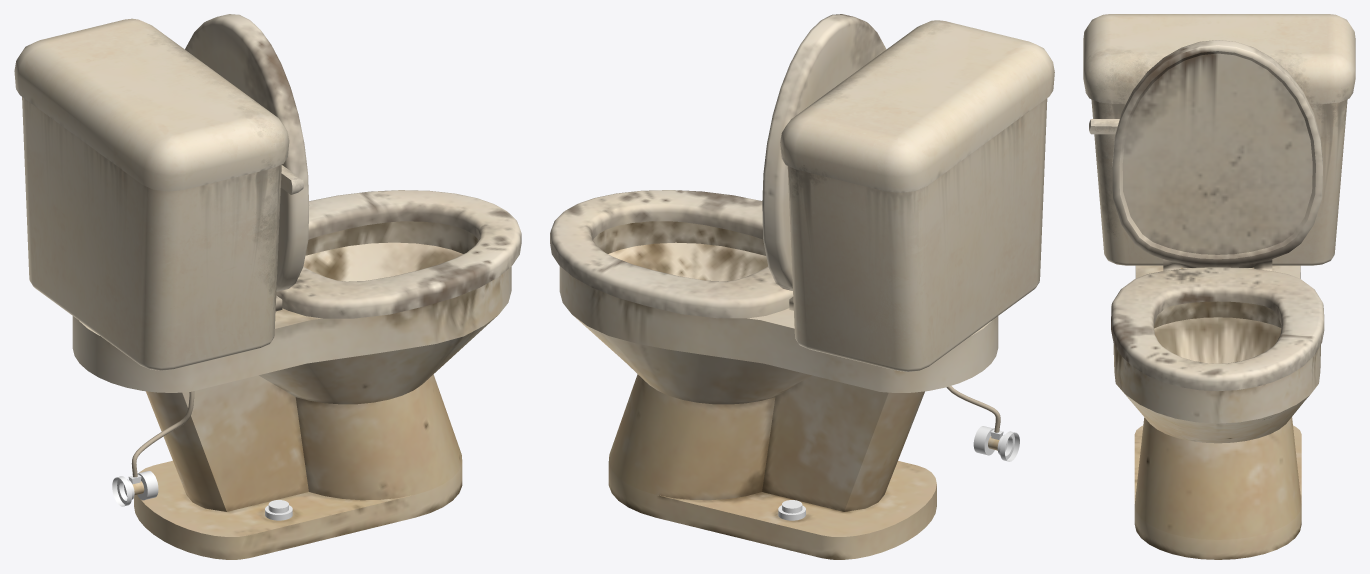
File: Dirty Toilet.glb
The picture shows the model from 3 angles, left to right: view 1: azimuth 30°, elevation 25°; view 2: azimuth 150°, elevation 25°; view 3: azimuth 270°, elevation 25°; orthographic projection. The views are drawn at different scales.
Visible parts, largest first — view 1: tOILET BOWL.001, Box.002, Circle.007, Circle.008, Circle.011; view 2: tOILET BOWL.001, Box.002, Circle.007, Circle.008, Circle.011; view 3: Circle.008, tOILET BOWL.001, Box.002, Circle.007, Circle.001.
Part boxes in pixels (x1=…): tOILET BOWL.001: x1=72, y1=221, x2=511, y2=559; Box.002: x1=14, y1=18, x2=289, y2=370; Circle.007: x1=276, y1=190, x2=521, y2=318; Circle.008: x1=185, y1=14, x2=309, y2=311; Circle.011: x1=112, y1=471, x2=158, y2=506; tOILET BOWL.001: x1=559, y1=221, x2=998, y2=559; Box.002: x1=780, y1=20, x2=1054, y2=371; Circle.007: x1=550, y1=190, x2=793, y2=318; Circle.008: x1=762, y1=14, x2=886, y2=310; Circle.011: x1=973, y1=426, x2=1019, y2=461; Circle.008: x1=1112, y1=40, x2=1322, y2=270; tOILET BOWL.001: x1=1113, y1=265, x2=1320, y2=559; Box.002: x1=1083, y1=14, x2=1355, y2=265; Circle.007: x1=1111, y1=267, x2=1324, y2=391; Circle.001: x1=1089, y1=119, x2=1119, y2=134.
Size of the model in its own units: 0.9851 by 1.08 by 0.6229.
3 materials, 3 textured.
